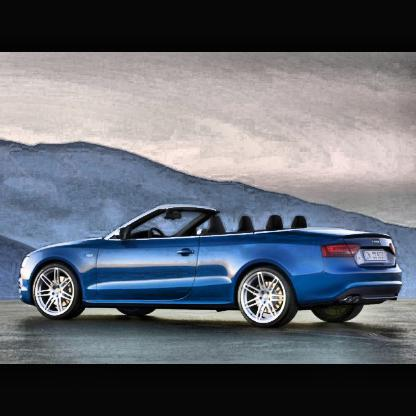Audi S5 Convertible 2012: (19, 203, 404, 327)
